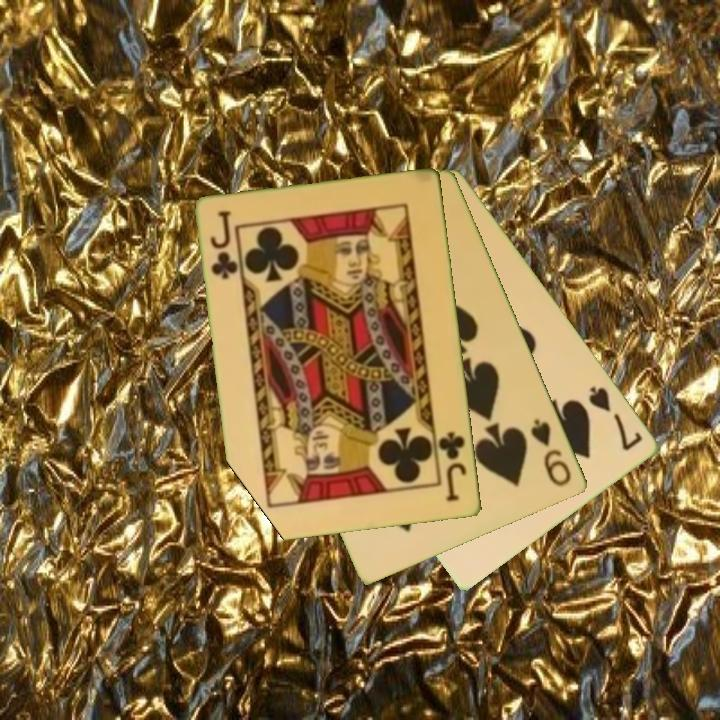7s: (585, 382, 646, 454)
9s: (527, 415, 575, 490)
Jc: (436, 428, 470, 505), (207, 207, 241, 283)
